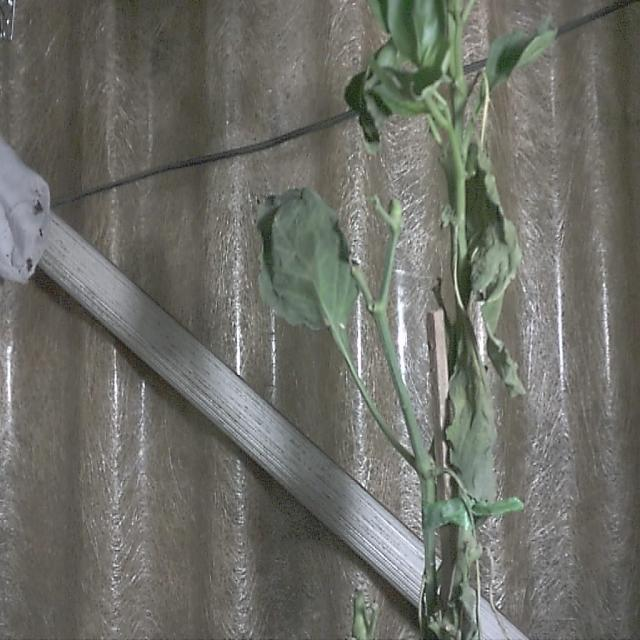Leaf: (253, 184, 361, 329)
